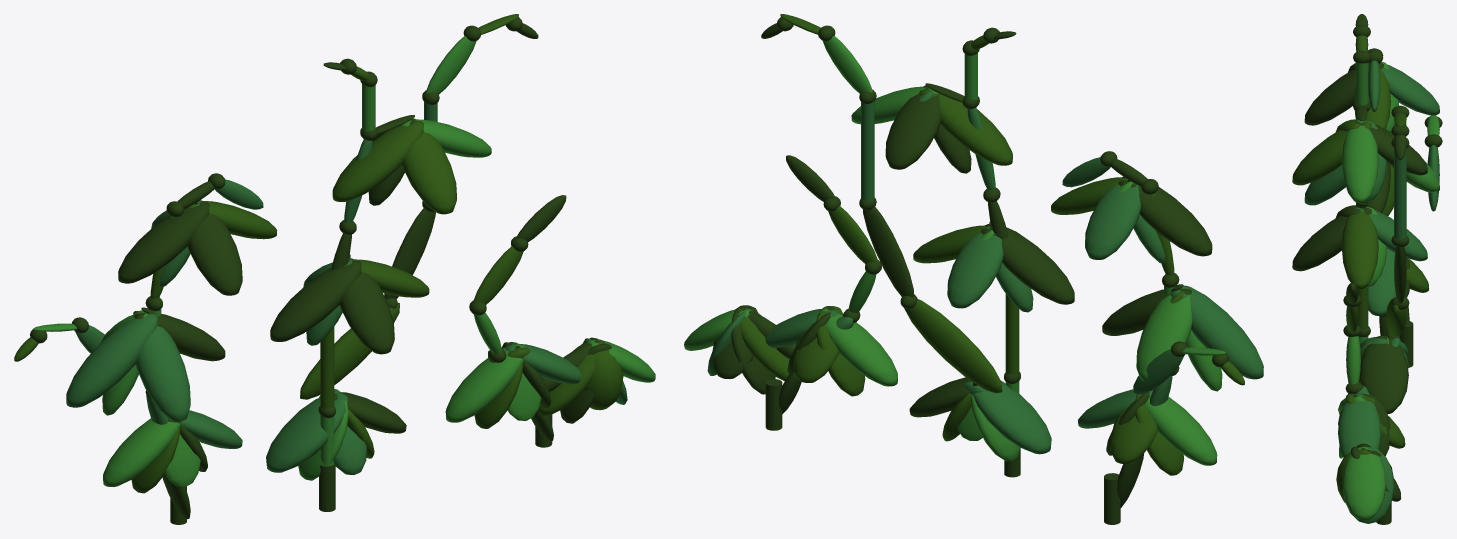
The model's file is CMU3DRMCBushf3.glb.
3 views of the same model, side by side, from view 1: azimuth 30°, elevation 25°; view 2: azimuth 150°, elevation 25°; view 3: azimuth 270°, elevation 25° (orthographic). The views are drawn at different scales.
Visible parts, largest first — view 1: crown 1 frond 0, crown 1 frond 4, crown 4 frond 0, crown 0 frond 0, crown 3 frond 0, crown 5 frond 0, crown 4 frond 4, crown 3 frond 4, crown 0 frond 4, crown 6 frond 0, crown 2 frond 0, visible stem 3 section 0 (+24 smaller); view 2: visible stem 3 section 0, crown 1 frond 0, crown 5 frond 0, crown 4 frond 0, crown 3 frond 5, crown 0 frond 5, crown 4 frond 5, crown 0 frond 0, crown 1 frond 5, crown 6 frond 0, crown 3 frond 0, crown 2 frond 0 (+33 smaller); view 3: crown 5 frond 3, crown 7 frond 3, crown 3 frond 3, crown 4 frond 3, crown 6 frond 3, crown 3 frond 4, crown 4 frond 4, crown 0 frond 4, crown 0 frond 5, crown 2 frond 3, crown 4 frond 5, visible stem 3 section 2 (+33 smaller).
Boxes of the visible parts, left/top/right/bottom form: crown 1 frond 0: left=66, top=313, right=157, bottom=407; crown 1 frond 4: left=133, top=310, right=190, bottom=421; crown 4 frond 0: left=270, top=260, right=361, bottom=341; crown 0 frond 0: left=118, top=202, right=209, bottom=283; crown 3 frond 0: left=332, top=120, right=423, bottom=201; crown 5 frond 0: left=266, top=392, right=347, bottom=472; crown 4 frond 4: left=339, top=258, right=394, bottom=354; crown 3 frond 4: left=402, top=118, right=456, bottom=214; crown 0 frond 4: left=187, top=200, right=242, bottom=295; crown 6 frond 0: left=445, top=343, right=525, bottom=422; crown 2 frond 0: left=103, top=418, right=180, bottom=486; visible stem 3 section 0: left=300, top=302, right=399, bottom=399; visible stem 3 section 0: left=904, top=299, right=1002, bottom=393; crown 1 frond 0: left=1183, top=285, right=1263, bottom=379; crown 5 frond 0: left=973, top=381, right=1051, bottom=454; crown 4 frond 0: left=985, top=224, right=1074, bottom=304; crown 3 frond 5: left=885, top=88, right=941, bottom=169; crown 0 frond 5: left=1085, top=184, right=1140, bottom=259; crown 4 frond 5: left=947, top=232, right=1003, bottom=308; crown 0 frond 0: left=1122, top=176, right=1212, bottom=256; crown 1 frond 5: left=1136, top=287, right=1192, bottom=381; crown 6 frond 0: left=819, top=308, right=897, bottom=386; crown 3 frond 0: left=923, top=85, right=1012, bottom=165; crown 2 frond 0: left=1145, top=396, right=1217, bottom=465; crown 5 frond 3: left=1359, top=335, right=1408, bottom=413; crown 7 frond 3: left=1342, top=446, right=1386, bottom=519; crown 3 frond 3: left=1341, top=119, right=1378, bottom=203; crown 4 frond 3: left=1341, top=206, right=1378, bottom=288; crown 6 frond 3: left=1338, top=393, right=1381, bottom=457; crown 3 frond 4: left=1292, top=121, right=1371, bottom=185; crown 4 frond 4: left=1292, top=207, right=1371, bottom=271; crown 0 frond 4: left=1304, top=62, right=1384, bottom=125; crown 0 frond 5: left=1381, top=64, right=1439, bottom=115; crown 2 frond 3: left=1368, top=248, right=1396, bottom=315; crown 4 frond 5: left=1355, top=207, right=1427, bottom=261; visible stem 3 section 2: left=1394, top=148, right=1406, bottom=239.
Bounding box in the file's own units: 0.9046 × 0.64 × 0.2152.
